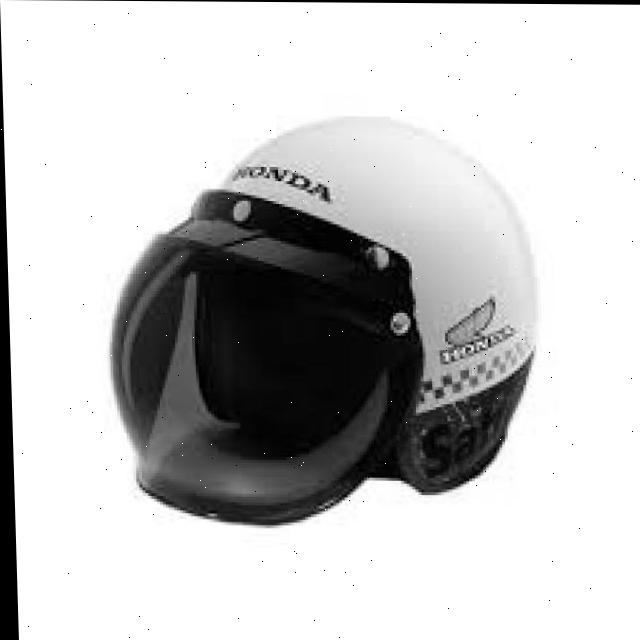Helmet: (95, 110, 545, 529)
